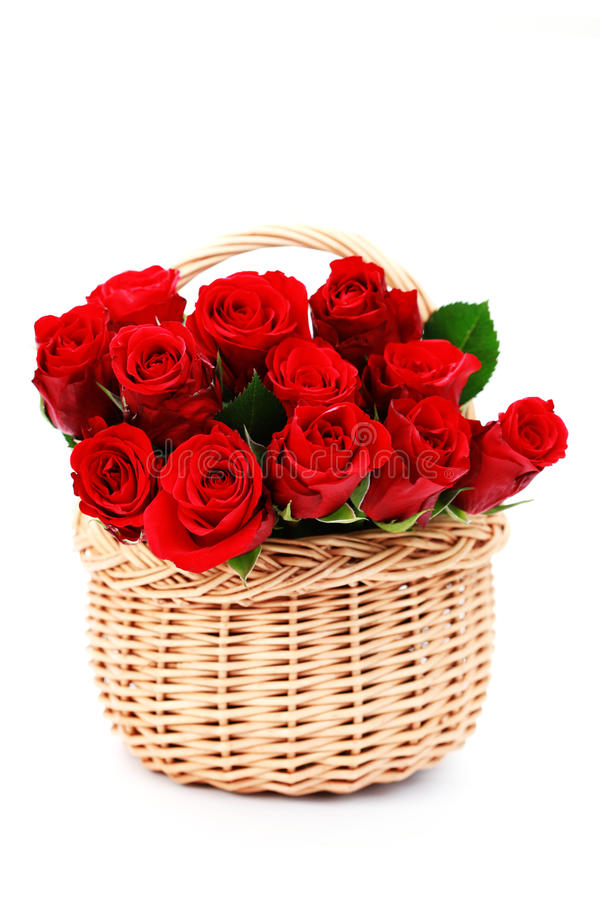RedRose: (142, 424, 276, 569), (464, 385, 575, 518), (270, 393, 371, 525), (372, 399, 478, 521), (192, 260, 320, 360), (25, 304, 124, 424), (110, 316, 226, 418), (67, 423, 156, 551), (314, 256, 423, 348), (83, 257, 196, 328), (383, 334, 481, 406), (271, 333, 366, 403)
